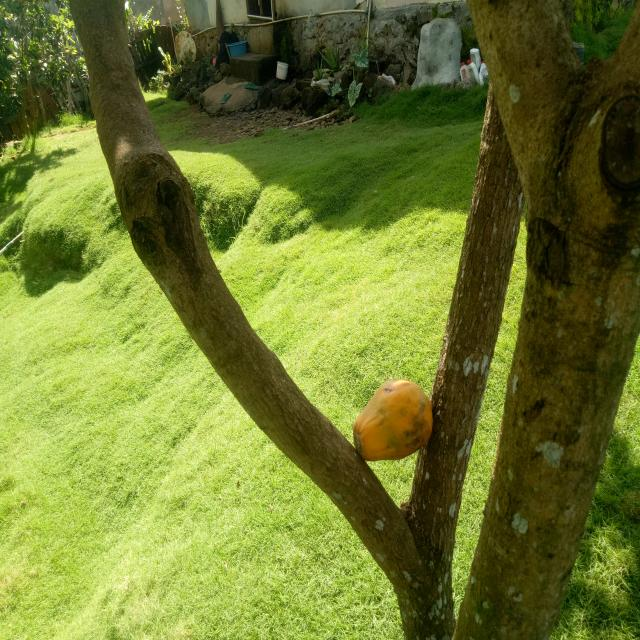Pepaya rippen: (350, 384, 435, 471)
